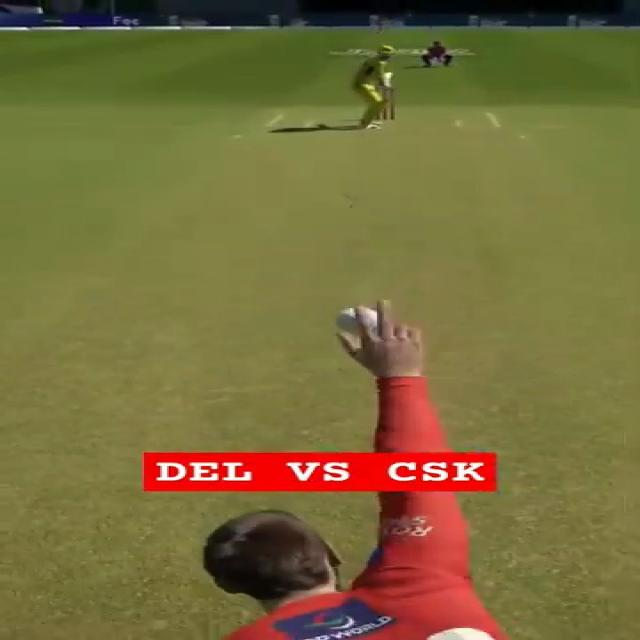ball: (338, 307, 356, 330), (363, 306, 377, 328)
